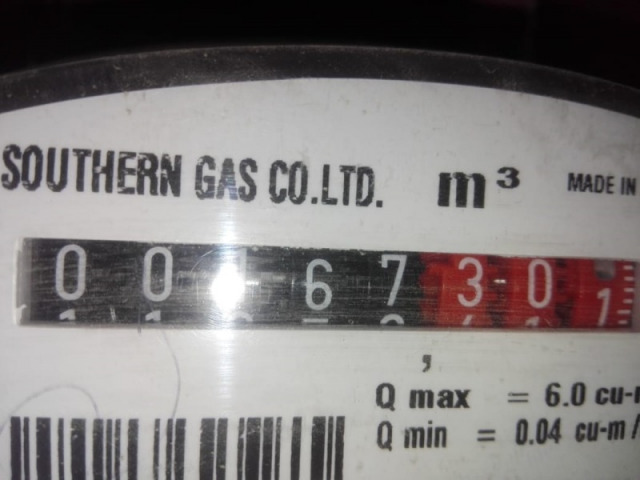ssgc: (6, 233, 637, 347)
